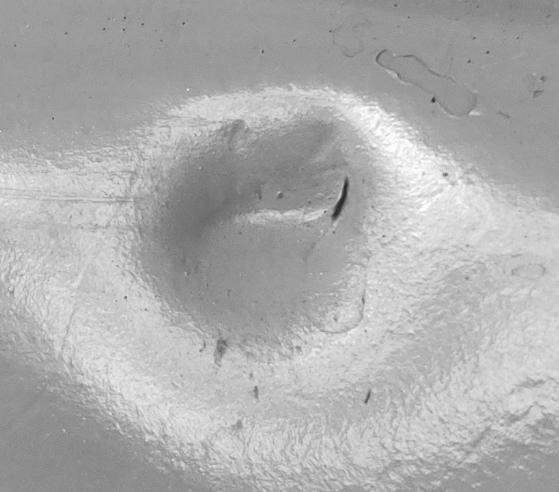dent: (0, 1, 559, 492)
